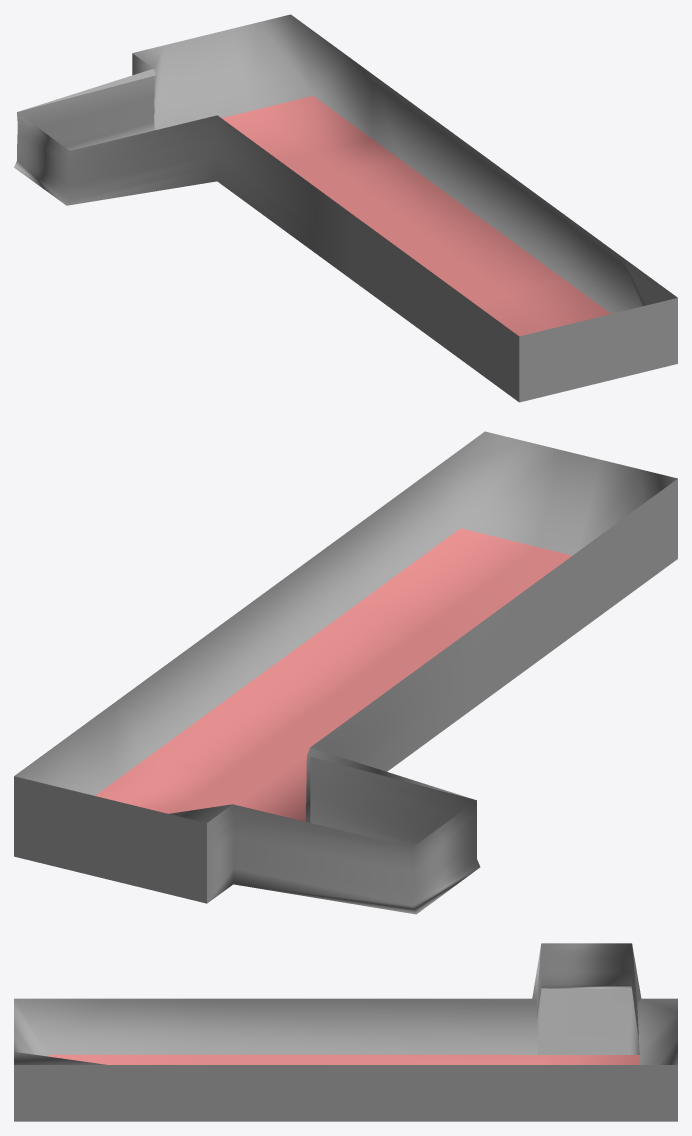
File: modeltest1.fbx
The picture shows the model from 3 angles, top to bottom: view 1: azimuth 30°, elevation 25°; view 2: azimuth 150°, elevation 25°; view 3: azimuth 270°, elevation 25°; orthographic projection. The views are drawn at different scales.
Visible parts, largest first — view 1: pCube1; view 2: pCube1; view 3: pCube1.
Part boxes in pixels (box(x1,y1,x2,y2)): pCube1: box(14, 14, 677, 402); pCube1: box(14, 431, 677, 914); pCube1: box(14, 943, 677, 1121).
Size of the model in its own units: 1.93 by 0.4067 by 4.25.
